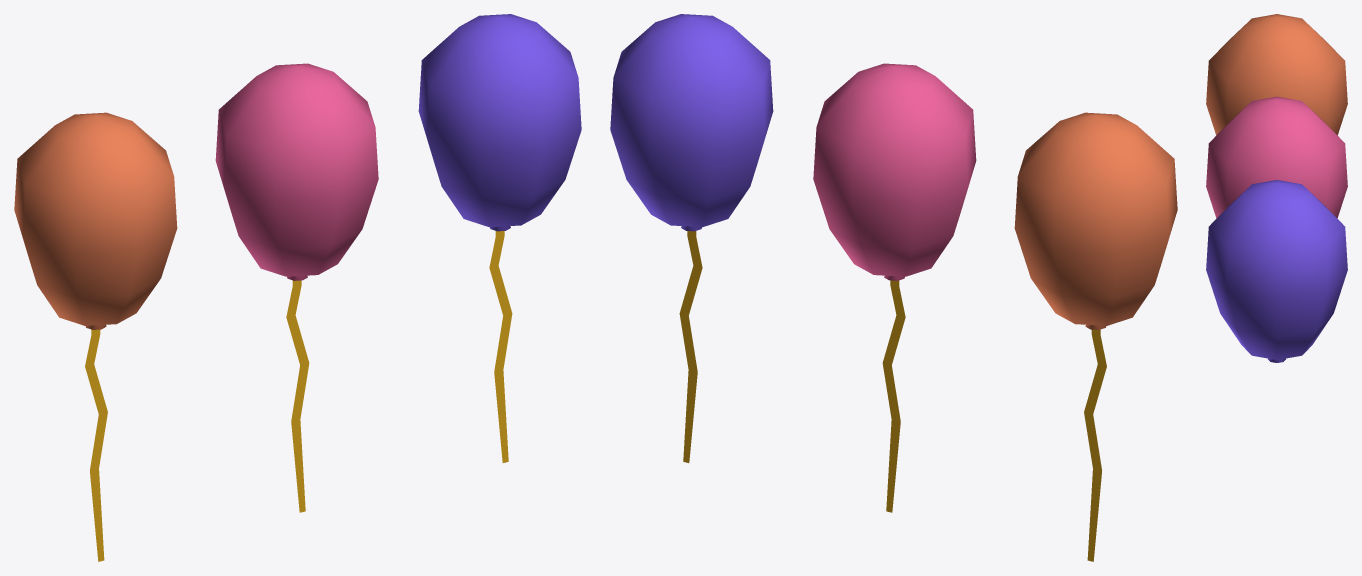
The model's file is Ballons.fbx.
3 views of the same model, side by side, from view 1: azimuth 30°, elevation 25°; view 2: azimuth 150°, elevation 25°; view 3: azimuth 270°, elevation 25° (orthographic). The views are drawn at different scales.
Parts seen in each view (by area): view 1: ORANGE, PINK, VIOLET; view 2: ORANGE, PINK, VIOLET; view 3: VIOLET, PINK, ORANGE.
Part boxes in pixels (x1,y1,x2,y2): ORANGE: (14, 112, 177, 561); PINK: (215, 63, 378, 512); VIOLET: (418, 14, 581, 462); ORANGE: (1014, 112, 1177, 561); PINK: (813, 63, 976, 512); VIOLET: (610, 14, 773, 462); VIOLET: (1206, 180, 1347, 362); PINK: (1206, 96, 1347, 218); ORANGE: (1206, 14, 1347, 135).
Size of the model in its own units: 753 by 584 by 200.
